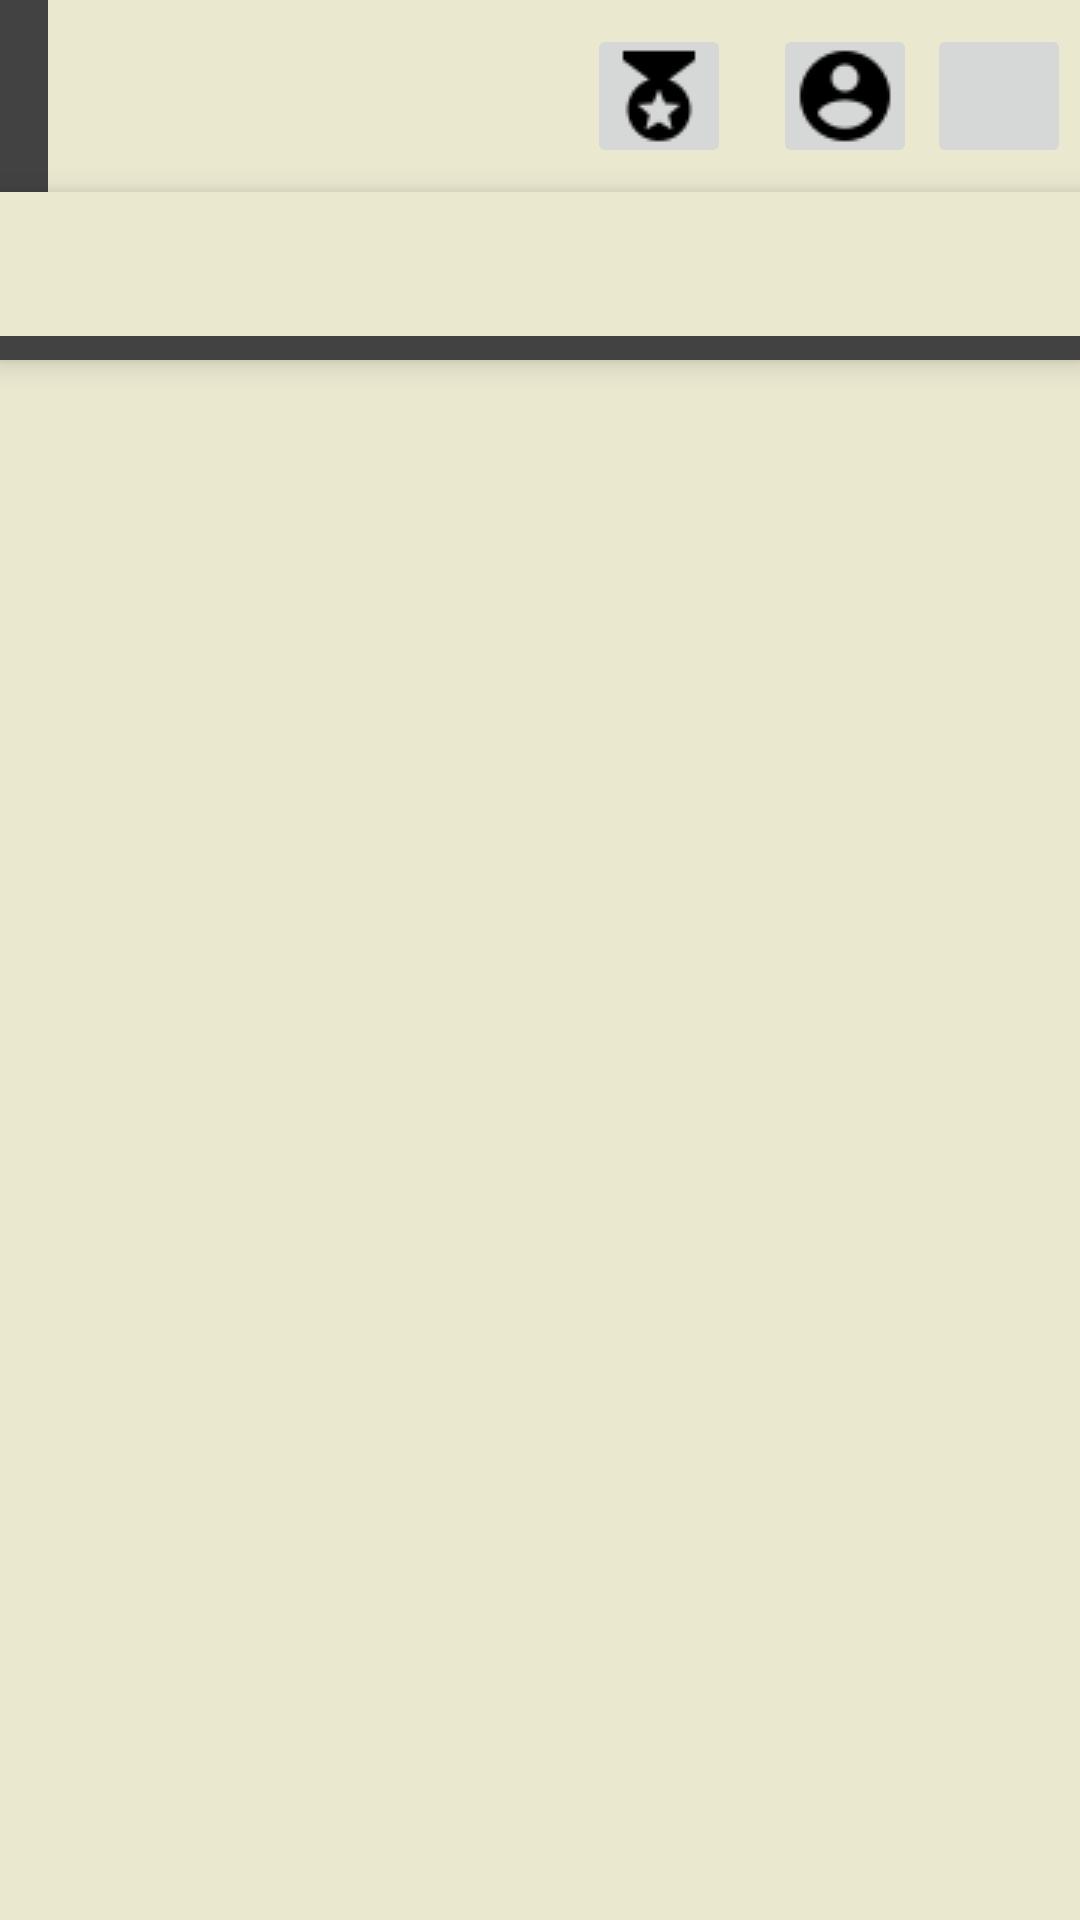

Named icons in this screenshot (1080w x 1920h) and their centers, point (x, y):
account: point (845, 96)
medal: point (659, 96)
